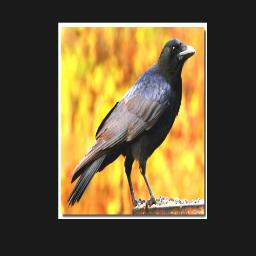Crow: (66, 35, 196, 207)
